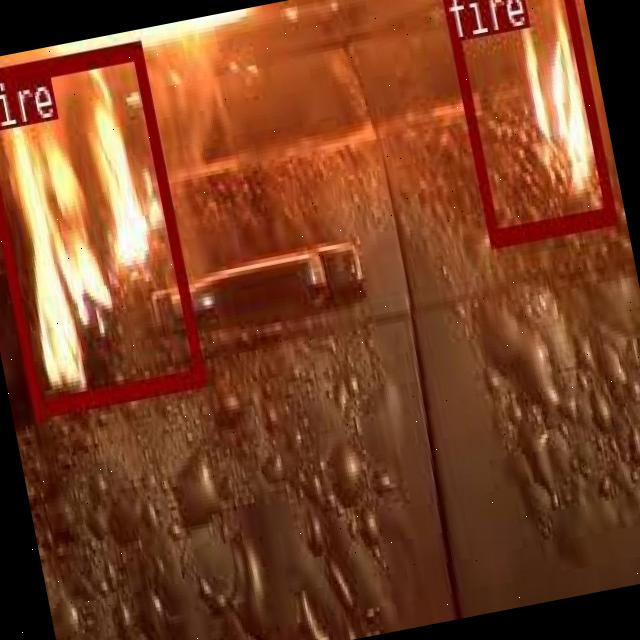fire: (0, 37, 205, 416), (438, 0, 614, 242)
